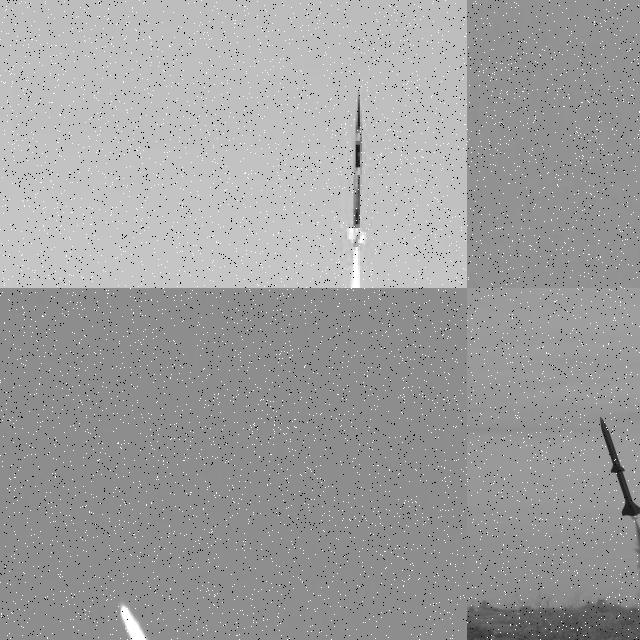Rocket: (599, 415, 640, 518), (347, 90, 369, 250), (120, 600, 124, 612)
